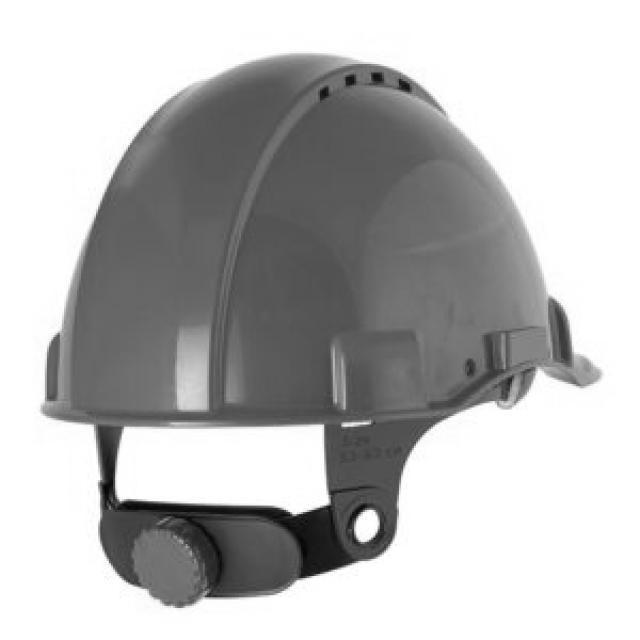safety_helmet: (38, 53, 602, 610)
